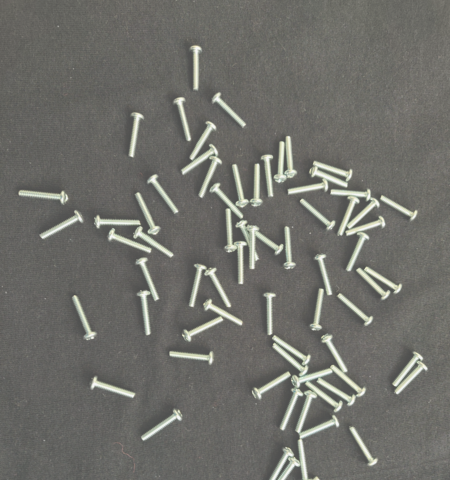longscrew: (140, 406, 184, 442), (210, 91, 247, 129), (271, 342, 310, 378), (39, 209, 84, 240), (70, 293, 99, 341), (133, 226, 175, 259), (209, 183, 246, 220), (335, 294, 375, 328), (304, 381, 345, 414), (146, 174, 179, 215), (355, 266, 392, 302), (251, 369, 292, 401), (348, 425, 379, 467), (330, 365, 369, 398), (391, 350, 424, 389), (180, 143, 219, 176), (181, 314, 225, 343), (106, 228, 153, 255), (316, 378, 358, 408), (393, 361, 429, 396), (133, 257, 161, 302), (88, 374, 136, 400), (134, 192, 162, 236), (271, 336, 312, 366), (299, 199, 336, 232), (204, 267, 233, 309), (320, 334, 350, 374), (364, 266, 404, 296), (202, 299, 244, 327), (342, 232, 370, 274), (345, 198, 381, 230), (278, 388, 304, 432), (189, 121, 217, 161), (298, 415, 340, 441), (235, 220, 261, 262), (197, 157, 223, 199), (294, 390, 318, 435), (380, 195, 420, 222), (290, 366, 334, 389), (168, 347, 216, 368), (265, 447, 295, 480), (186, 263, 208, 308), (171, 96, 192, 143), (337, 196, 361, 237), (312, 253, 334, 297), (312, 160, 354, 183), (309, 166, 349, 189), (346, 216, 387, 238), (230, 164, 250, 209), (134, 290, 153, 337), (127, 112, 146, 159), (18, 189, 70, 206), (253, 230, 285, 257), (308, 288, 327, 332), (187, 45, 204, 93), (231, 241, 249, 286), (93, 215, 142, 231), (268, 457, 302, 480), (296, 439, 315, 480), (287, 179, 329, 197), (262, 292, 278, 337), (281, 226, 297, 271), (283, 136, 299, 180), (259, 154, 274, 200), (330, 187, 373, 203), (249, 164, 264, 208), (221, 210, 236, 253), (273, 141, 288, 184), (246, 225, 260, 270), (282, 476, 321, 480)
